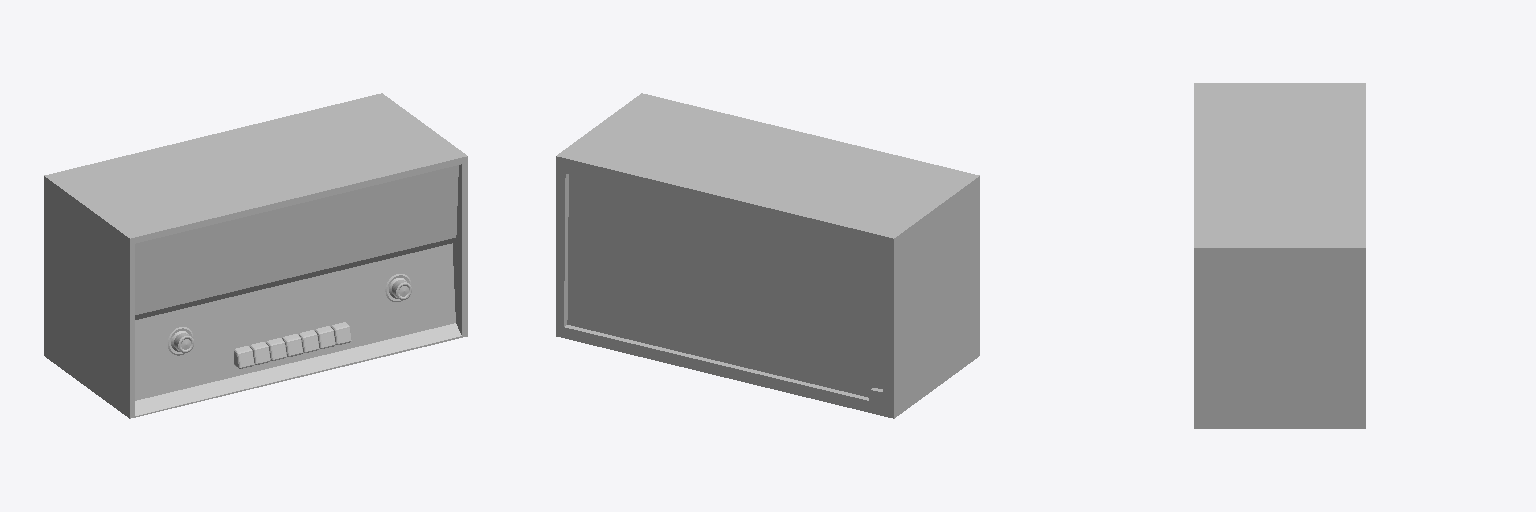
File: Vintage_soviet_radio.obj
3 views of the same model, side by side, from view 1: azimuth 30°, elevation 25°; view 2: azimuth 150°, elevation 25°; view 3: azimuth 270°, elevation 25° (orthographic).
Parts seen in each view (by area): view 1: Rodina65_Mesh.004; view 2: Rodina65_Mesh.004; view 3: Rodina65_Mesh.004.
Part boxes in pixels (x1,y1,x2,y2): Rodina65_Mesh.004: (44, 93, 467, 418); Rodina65_Mesh.004: (556, 93, 979, 418); Rodina65_Mesh.004: (1194, 83, 1365, 428).
Size of the model in its own units: 4.21 by 2.14 by 1.85.